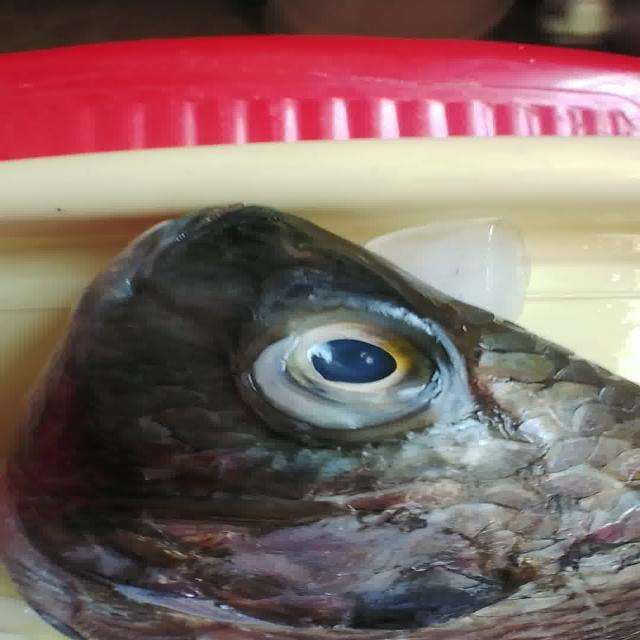Fresh: (223, 301, 466, 433)
